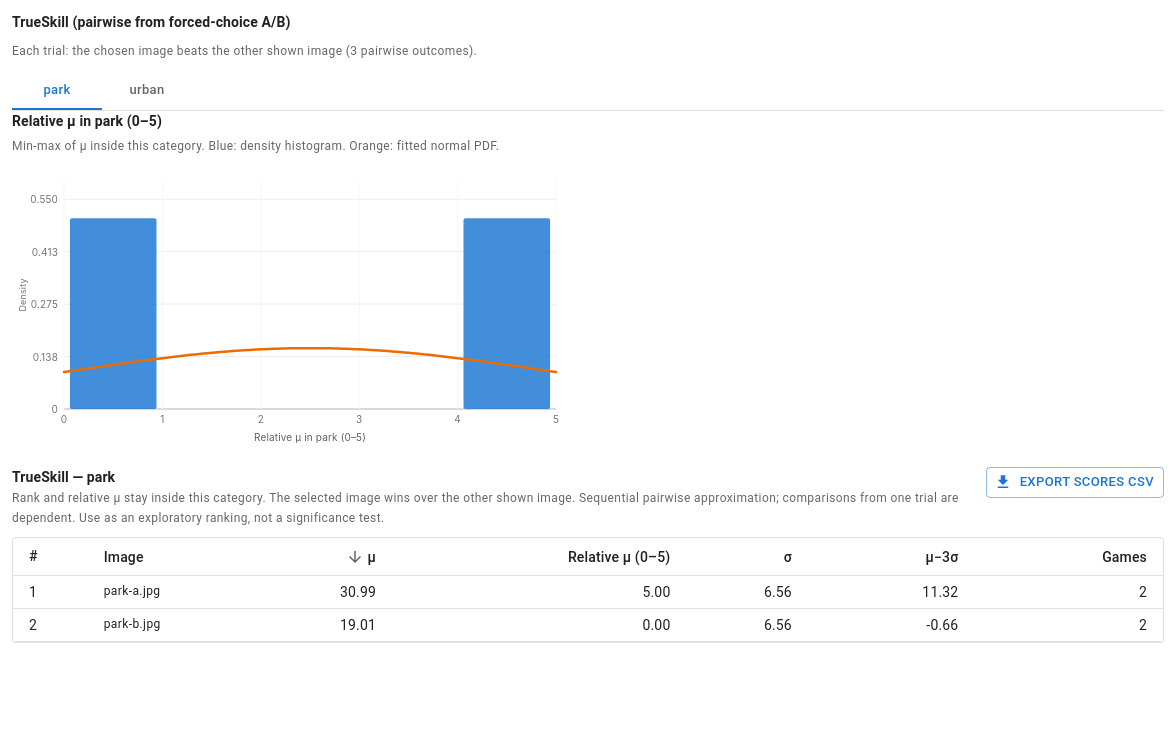
Test: one category per trial shows each ranking as a tab under the question
expect the tab "park" is shown: met, box left=12, top=70, right=102, bottom=110
expect the table shows "park-a.jpg": met, box left=104, top=584, right=160, bottom=598
Click the tab "urban": (147, 90) left=102, top=70, right=192, bottom=110
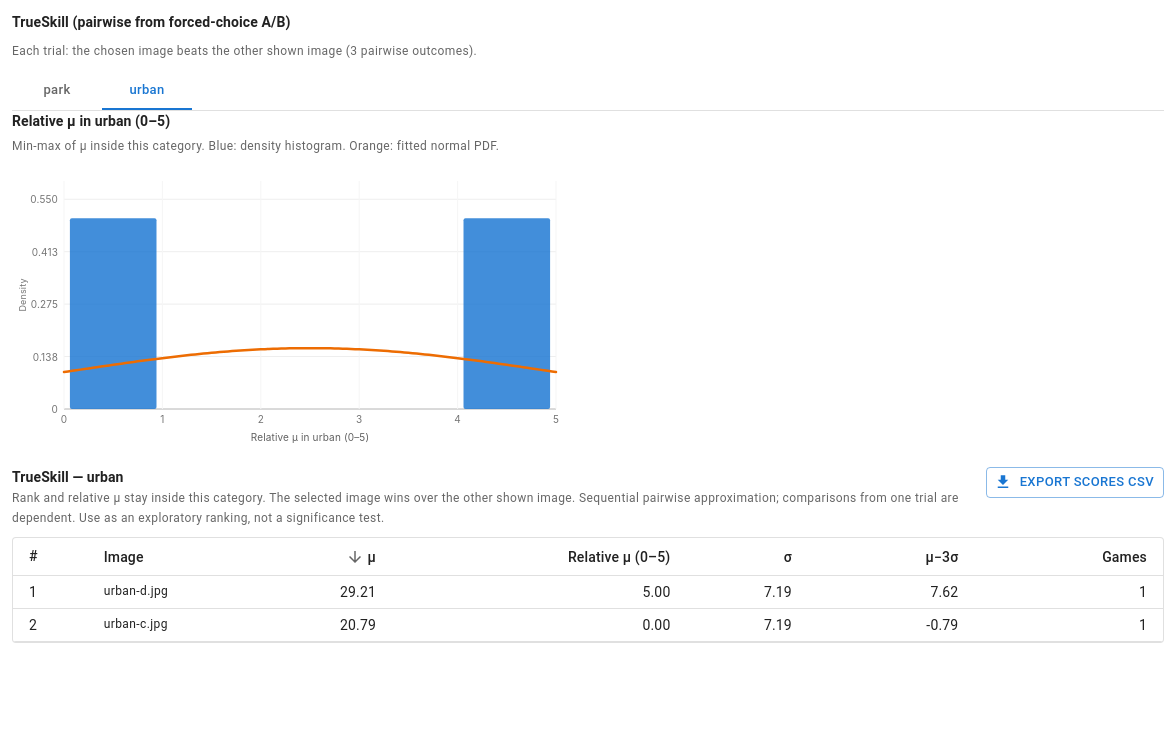
expect the table shows "urban-c.jpg": met, box left=104, top=617, right=168, bottom=631
expect the text "park-a.jpg" is gone: met
